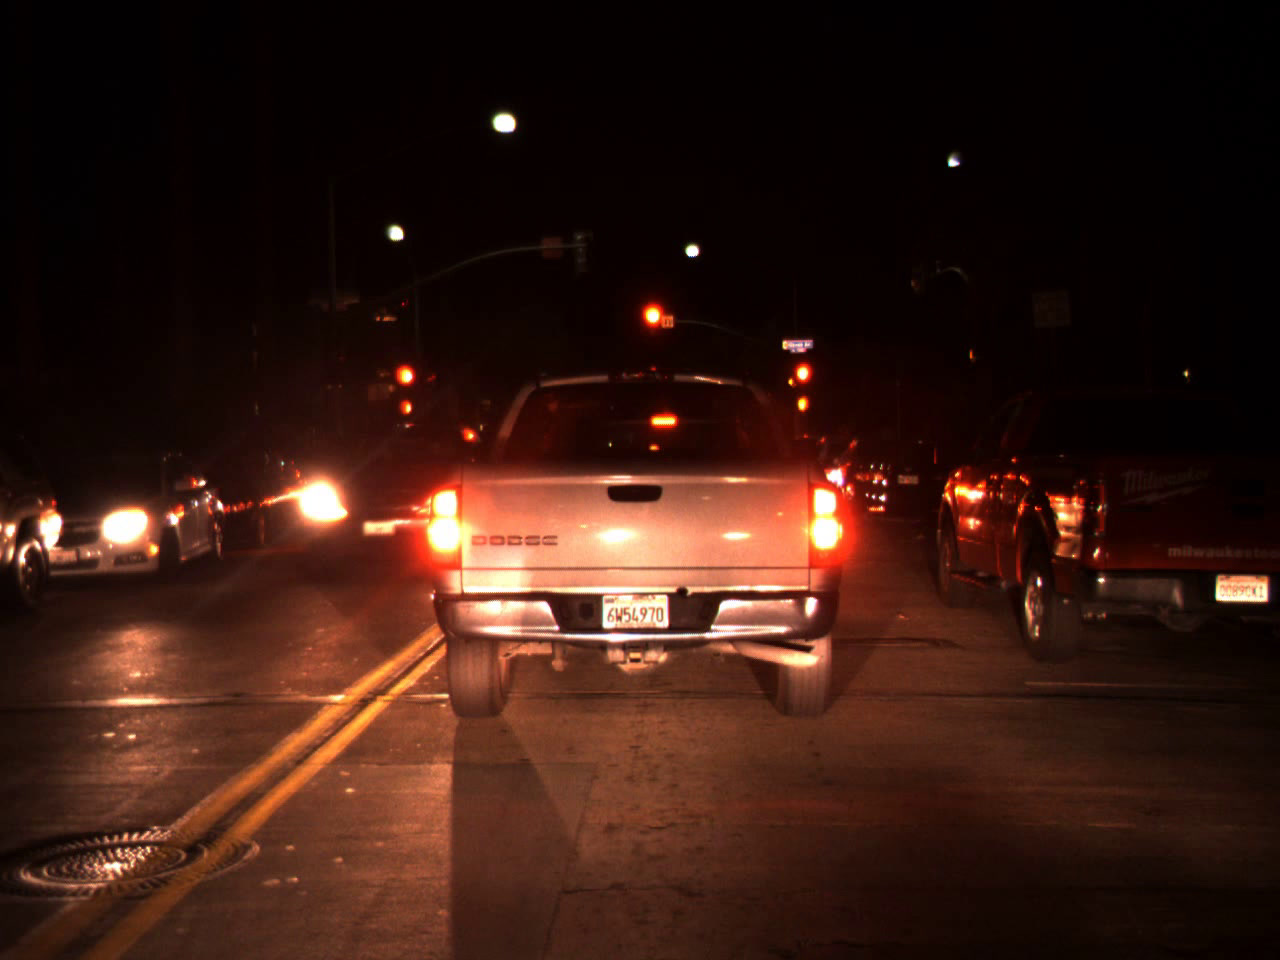stop: (641, 301, 671, 354), (392, 361, 419, 412), (792, 359, 814, 407)
